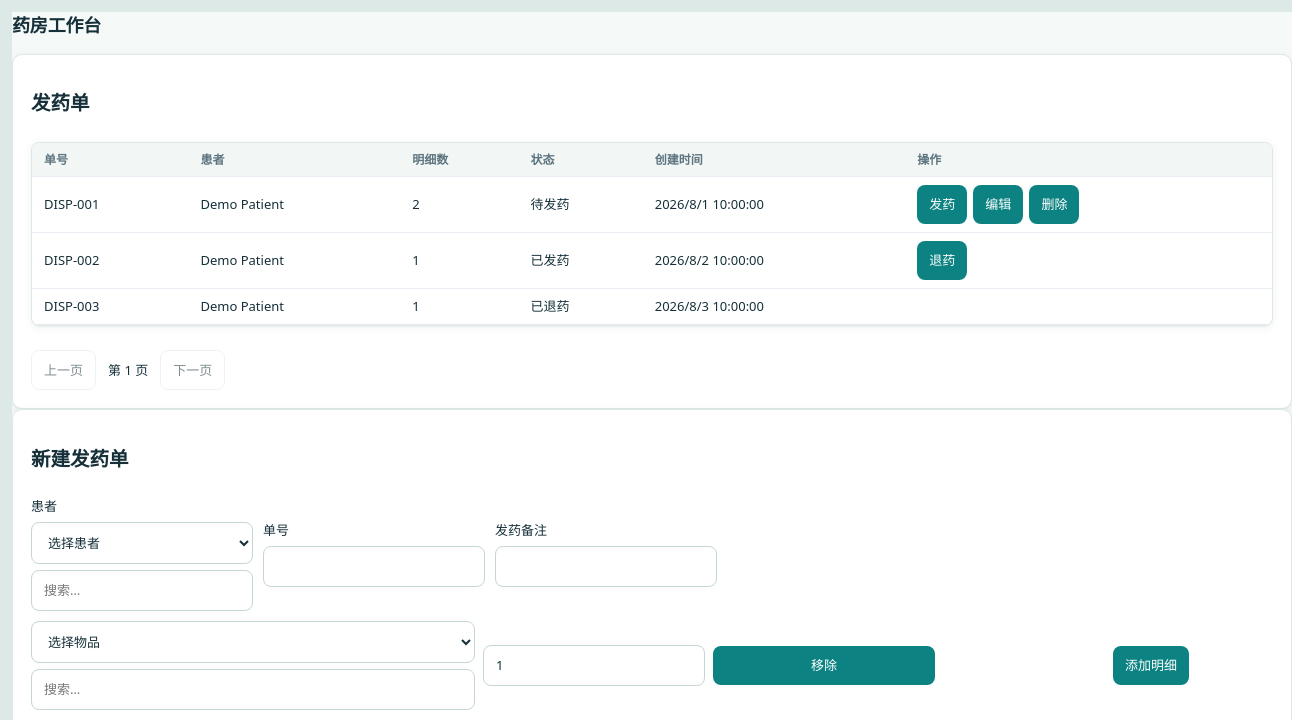
it: DispenseWorkbenchPage › dispenses a pending order with item batch assignment
Expected: the text "DISP-001" is shown, x1=32 y1=177 x2=188 y2=232
Click the button "发药": (942, 204) x1=917 y1=185 x2=967 y2=224
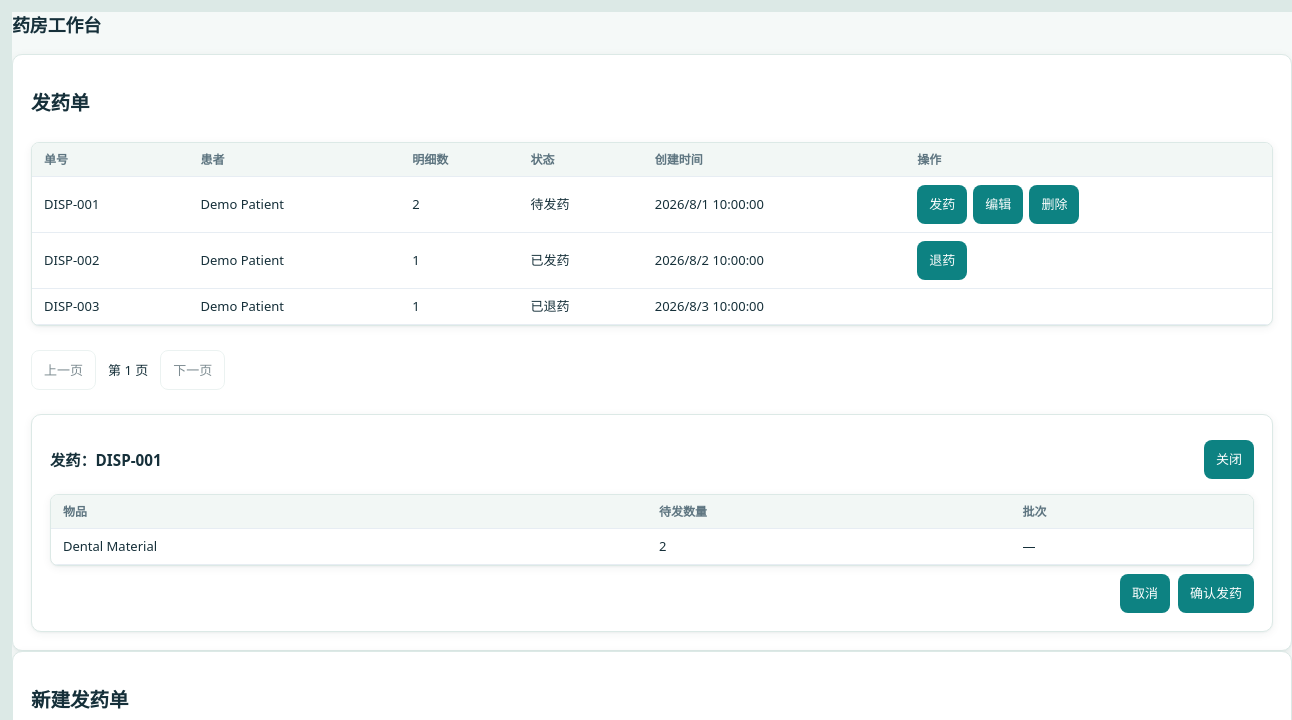
Expected: the button "确认发药" is enabled
Click the button "确认发药": (1216, 594) x1=1178 y1=574 x2=1254 y2=613
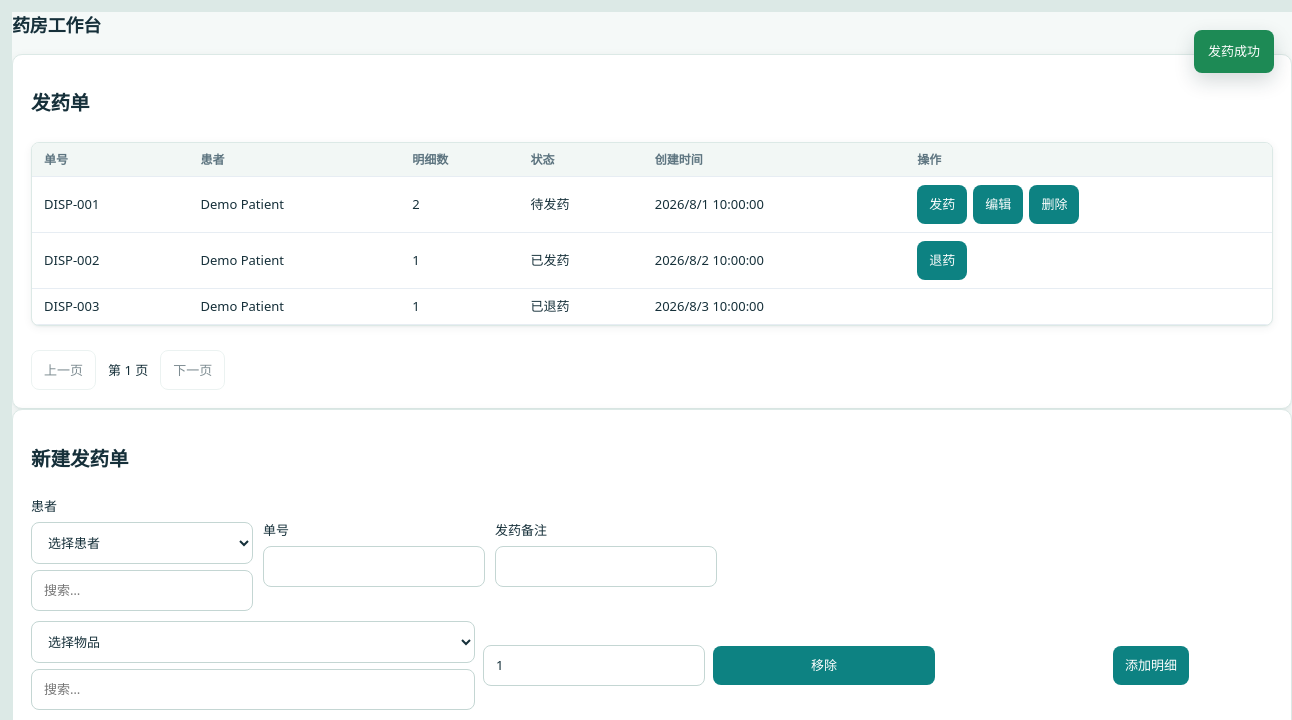
Expected: the text "发药成功" is shown, x1=1194 y1=30 x2=1274 y2=73
